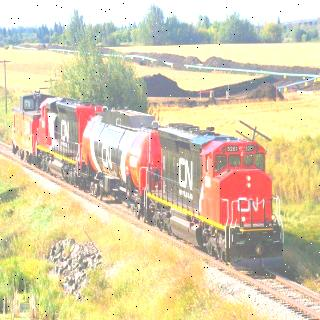poezd: (153, 124, 287, 270), (40, 99, 95, 177)
